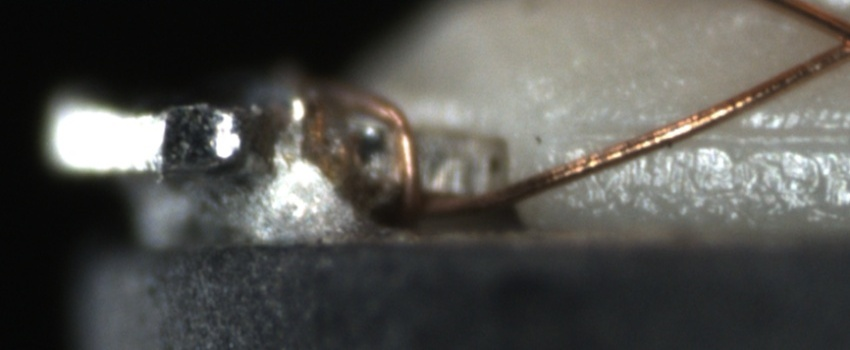CL: (825, 19, 850, 65)
DL: (570, 107, 850, 171)
TE: (291, 69, 431, 222)
